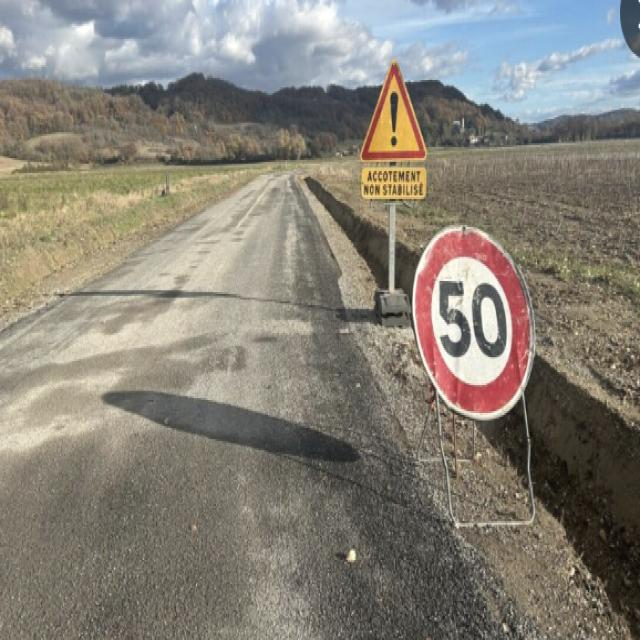speed_50: (412, 225, 535, 423)
